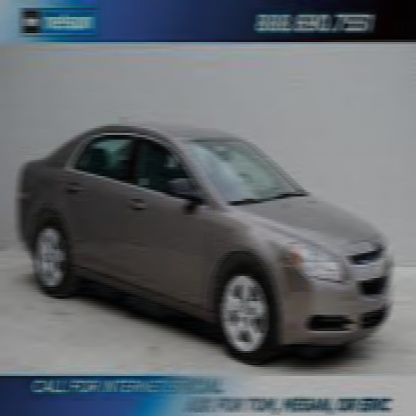Vehicle: (13, 111, 398, 373)
